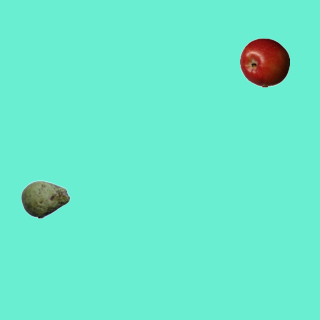Apple Braeburn: (239, 37, 289, 87)
Pear Stone: (20, 174, 70, 224)
